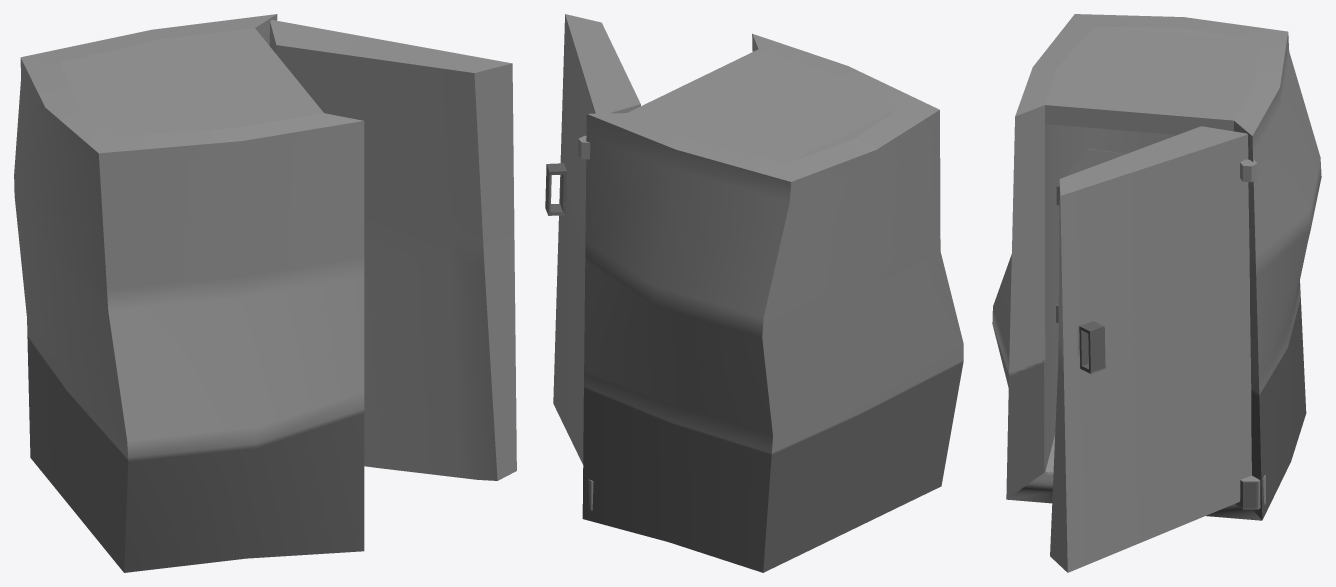
File: fridge.fbx
3 renders of one model, left to right at view 1: azimuth 30°, elevation 25°; view 2: azimuth 150°, elevation 25°; view 3: azimuth 270°, elevation 25°, orthographic. The views are drawn at different scales.
Visible parts, largest first — view 1: polySurface596; view 2: polySurface596; view 3: polySurface596.
Boxes of the visible parts, left/top/right/bottom form: polySurface596: left=14, top=14, right=516, bottom=572; polySurface596: left=545, top=14, right=963, bottom=572; polySurface596: left=992, top=14, right=1321, bottom=572.
Size of the model in its own units: 1.56 by 1.53 by 1.18.
Materials: 1 (1 with a texture image).
